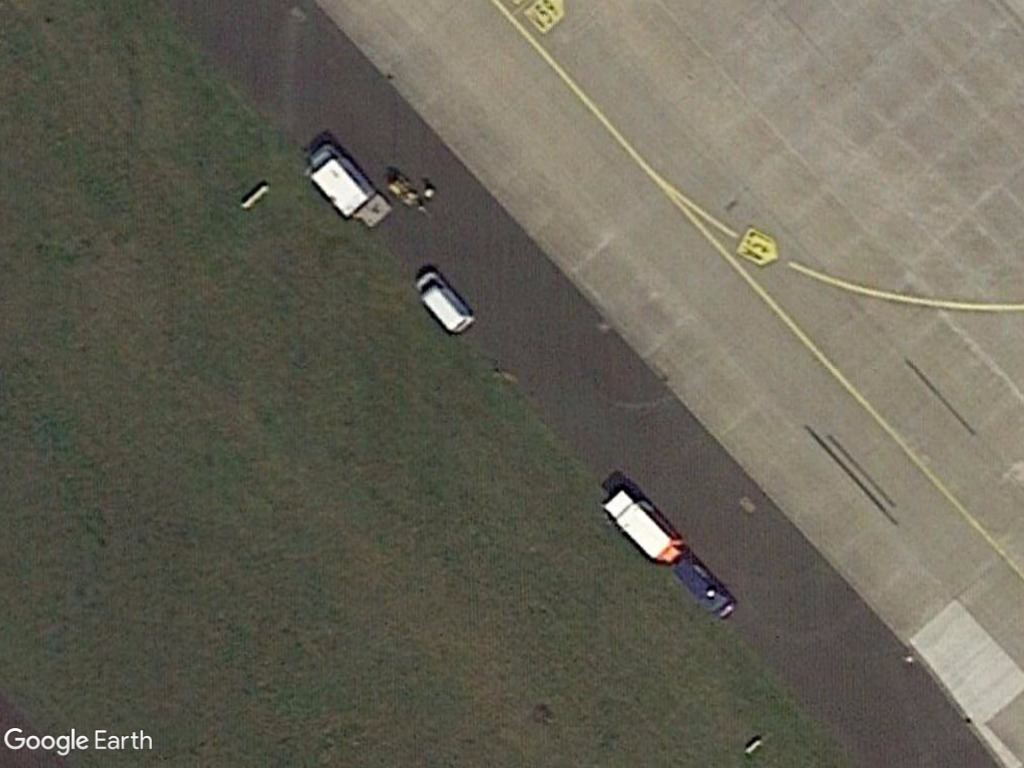truck: (598, 485, 686, 570), (307, 140, 378, 225)
van: (406, 256, 485, 342)
